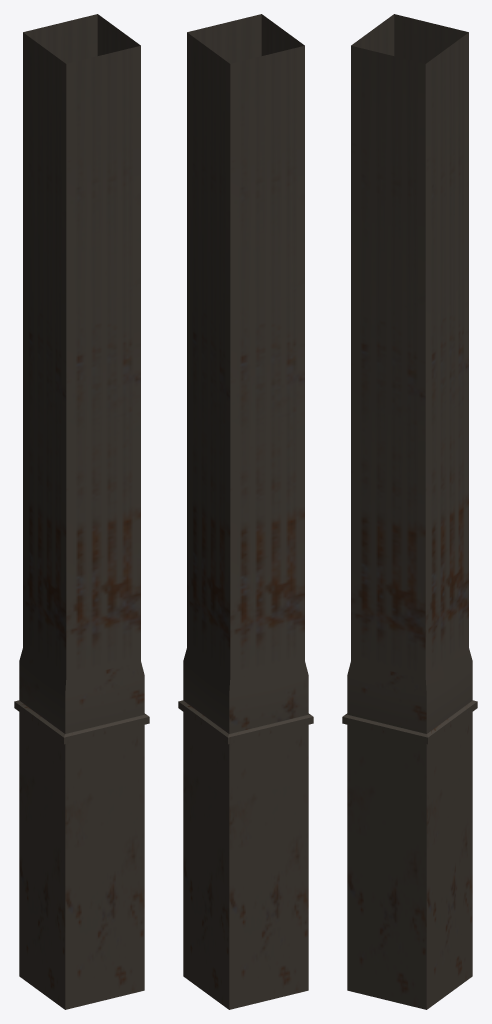
Rendered from metal_column_small_bottom.glb.
3 renders of one model, left to right at view 1: azimuth 30°, elevation 25°; view 2: azimuth 210°, elevation 25°; view 3: azimuth 330°, elevation 25°, orthographic.
Parts seen in each view (by area): view 1: Metal_Column_Small_Bottom; view 2: Metal_Column_Small_Bottom; view 3: Metal_Column_Small_Bottom.
Boxes of the visible parts, bbox=[...] form: Metal_Column_Small_Bottom: bbox=[14, 14, 149, 1009]; Metal_Column_Small_Bottom: bbox=[178, 14, 313, 1009]; Metal_Column_Small_Bottom: bbox=[342, 14, 477, 1009].
Size of the model in its own units: 0.2845 by 3 by 0.2847.
1 material, 1 textured.
